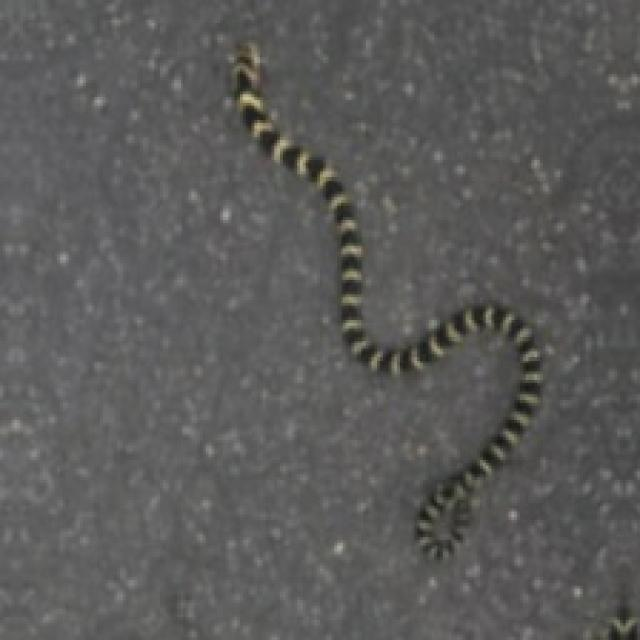king cobra: (231, 43, 540, 554)
